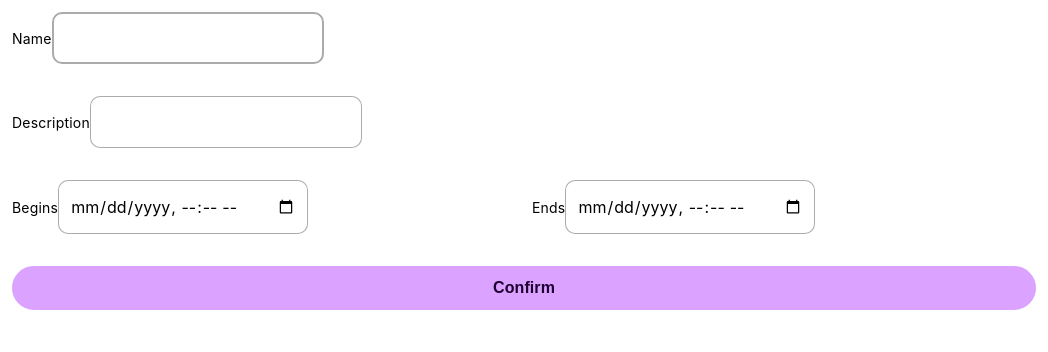
Scenario: EventForm tests › should failed on blur when entered start date is sooner than current date
This screenshot has width=1048, height=352.
Type "1985-10-26T20:00" into the field labelled "Begins" at (183, 207), box top-left (58, 180), bottom-right (308, 234)
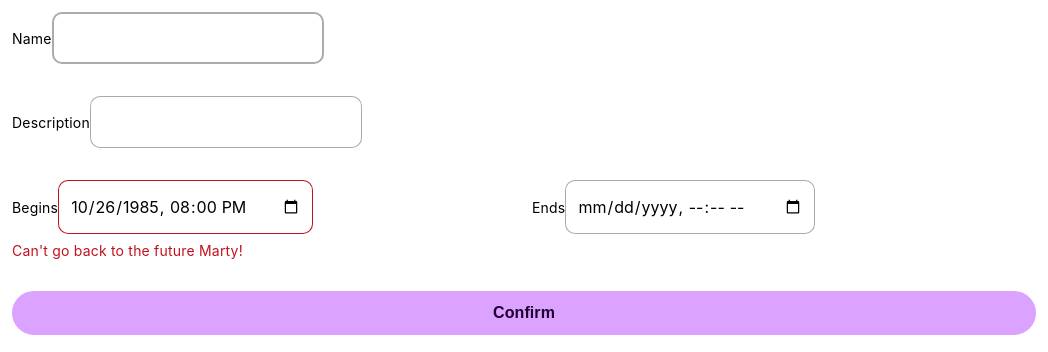
Now the text "Can't go back to the future Marty!" is shown, box top-left (12, 242), bottom-right (243, 259)
